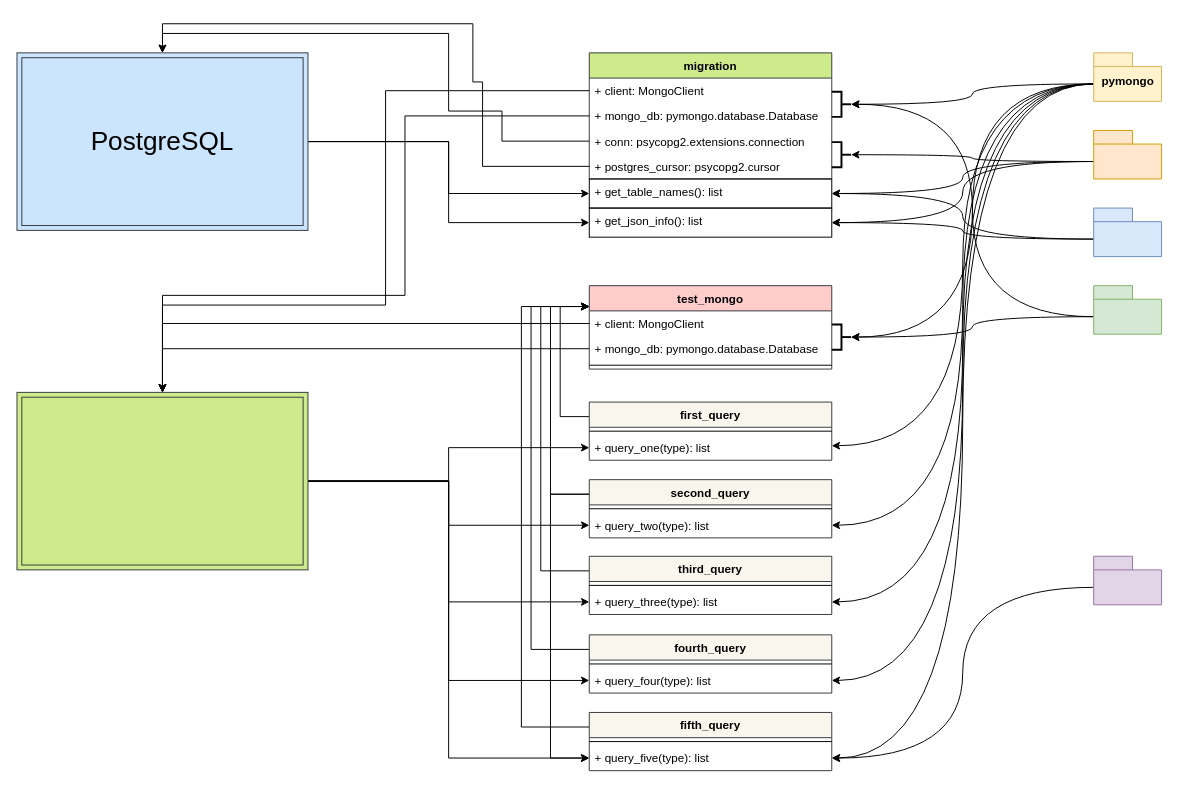
The diagram is 1179 pixels wide and 791 high, and some of its shapes have lost their labels. Each missing label, with the centre of its shape:
"dns" goes at pixel 1127 309.
"MongoDB" goes at pixel 162 480.
"networkx" goes at pixel 1127 580.
"numpy" goes at pixel 1127 232.
"psycopg" goes at pixel 1127 154.
